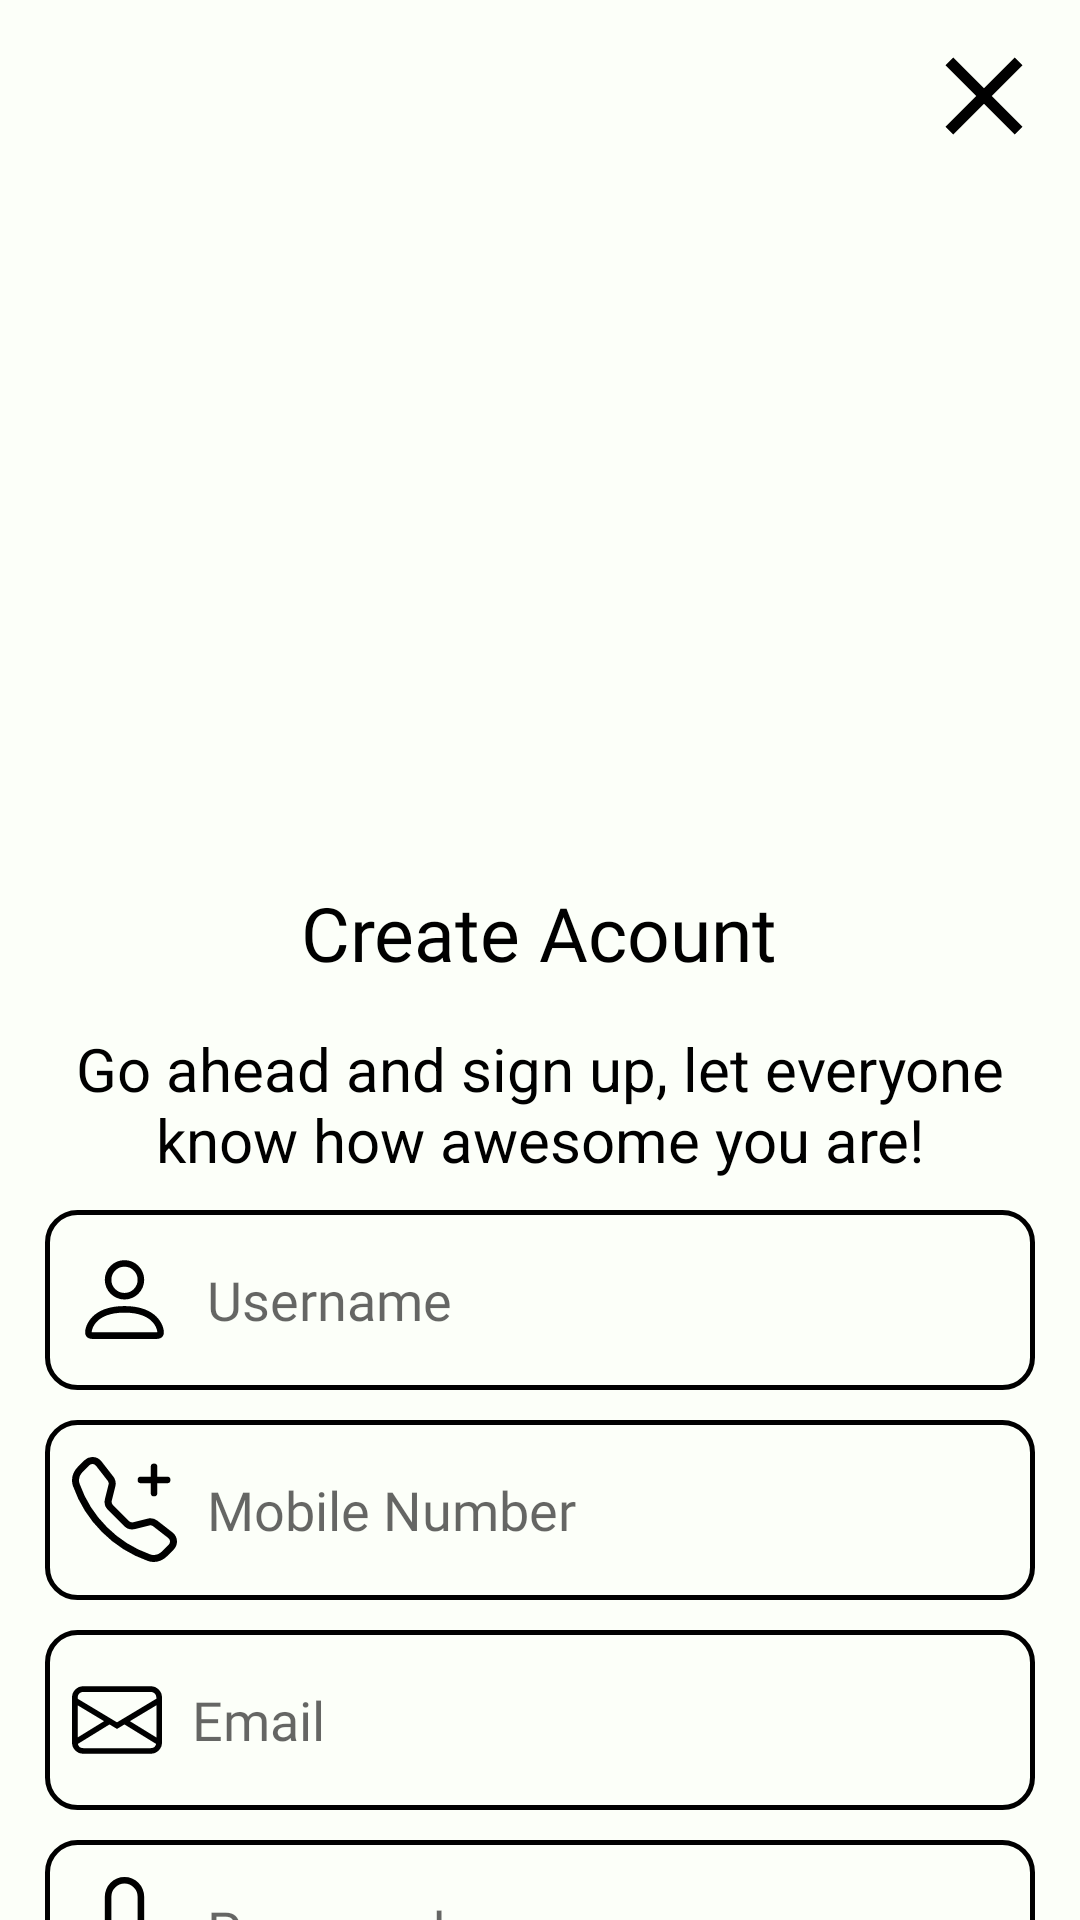

Icon click points for this 1080px×1920px phone screenshot, format (x=x, y=y):
close: (x=984, y=96)
person: (x=124, y=1299)
telephone: (x=124, y=1509)
